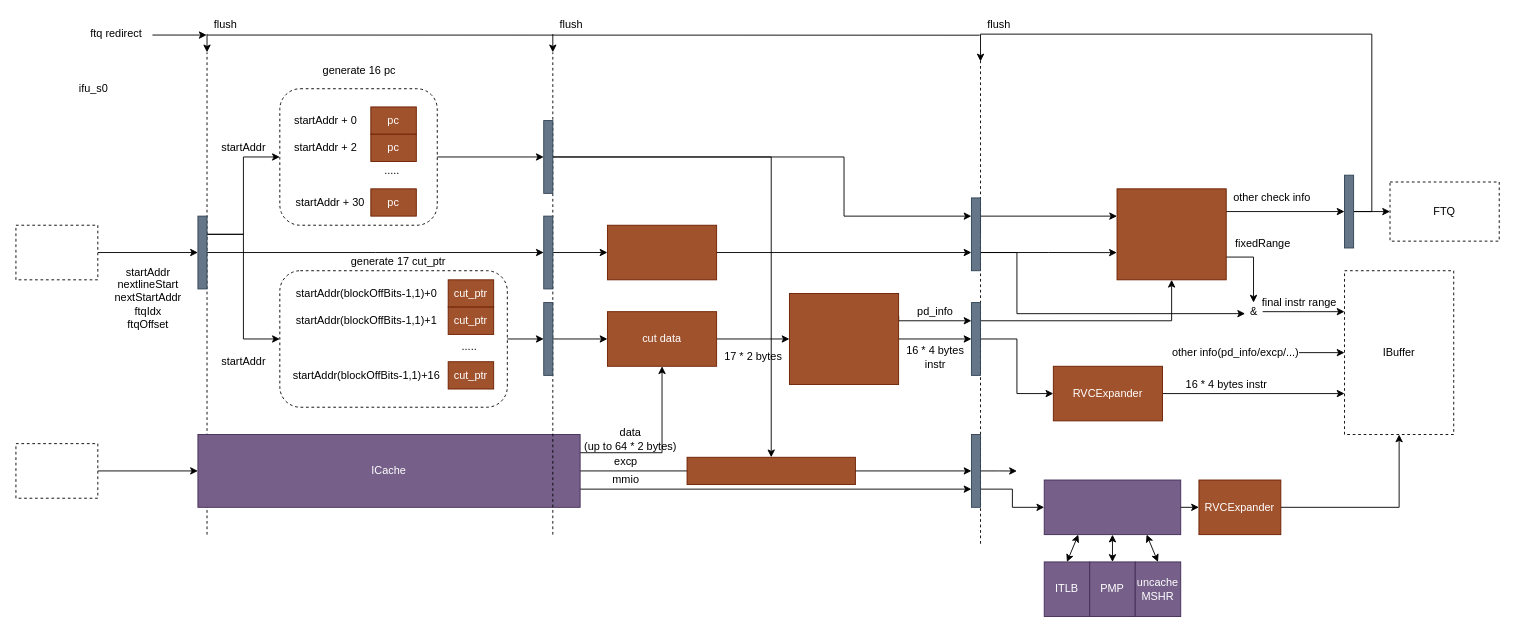
The diagram is 1515 pixels wide and 632 high, and some of its shapes have lost their labels. The centre of each missing label's shape, as x and y in pixels:
"fetch req from ftq" goes at [56,252].
"fetch vaddr from ftq" goes at [56,470].
"gen excp for each instr" goes at [770,470].
"instr range generate" goes at [662,252].
"mmio FSM" goes at [1112,507].
"preChecker" goes at [1171,234].
"preDecoder" goes at [844,338].
